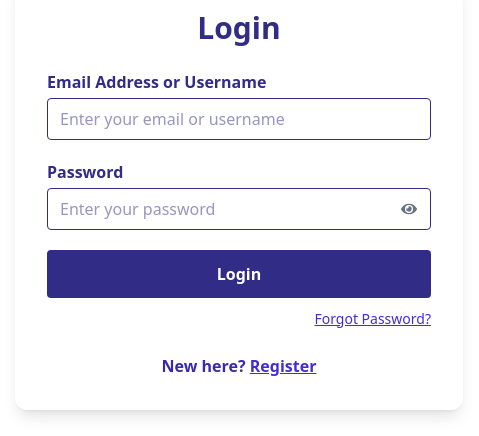
Test: password fields in the app › login: the toggle works and the typed password is what gets sent
The width and height of the screenshot is (479, 436).
Later steps or results of the test are not shown.
Type "demo" into the field labelled "Email Address or Username" at {"x": 239, "y": 119}, box [47,98,431,140]
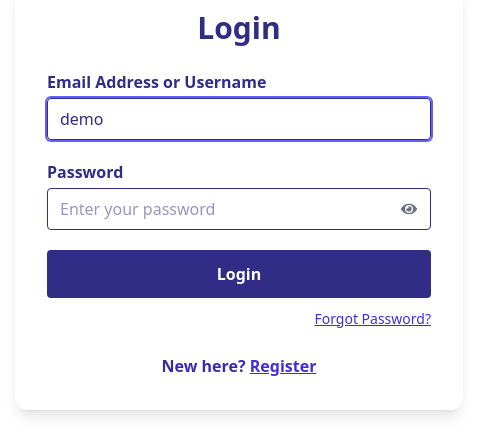
Type "Demo@1234" into the password field labelled "Password" at {"x": 239, "y": 209}, box [47,188,431,230]
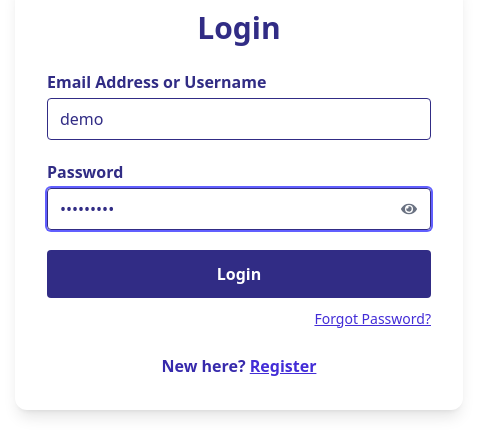
Click the button named "Show password" at {"x": 409, "y": 209}, box [387,188,431,230]
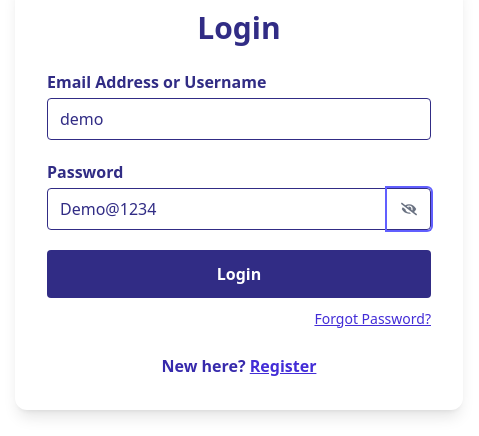
Now the field labelled "Password" shows its text, box [47,188,431,230]
